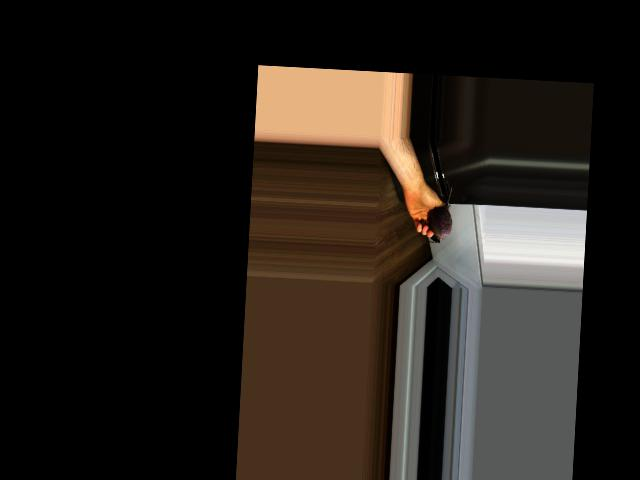beet: (428, 186, 453, 244)
